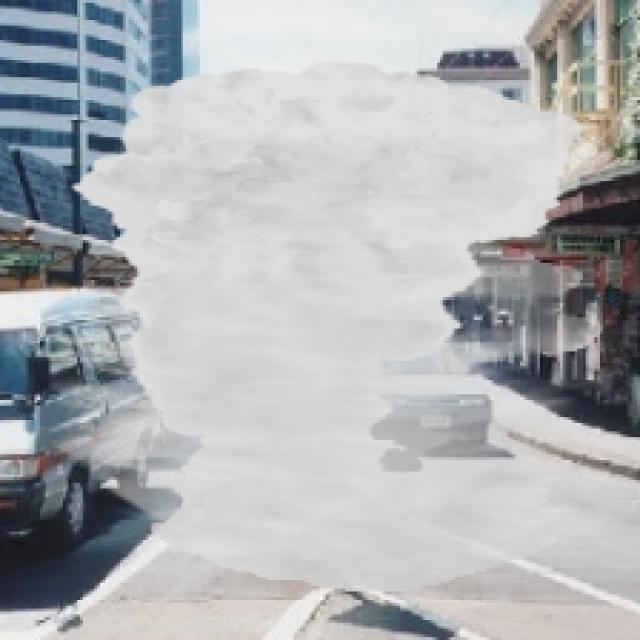smoke: (48, 60, 603, 591)
